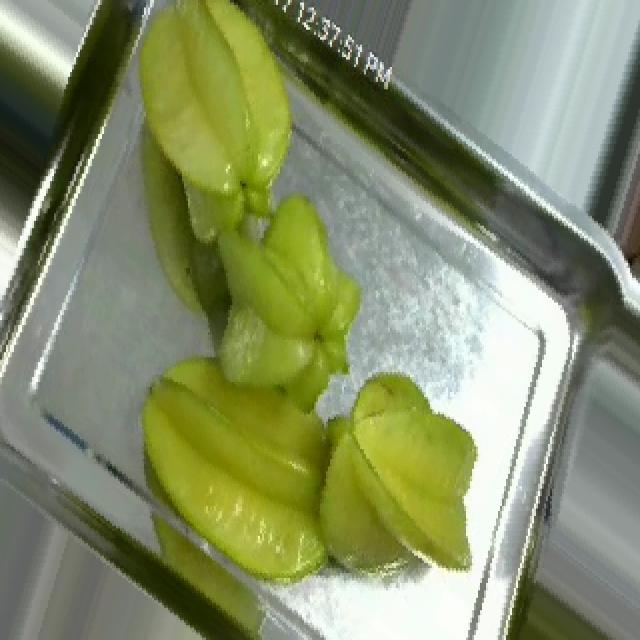fruit: (122, 166, 400, 531), (88, 0, 346, 300), (304, 348, 512, 610)
